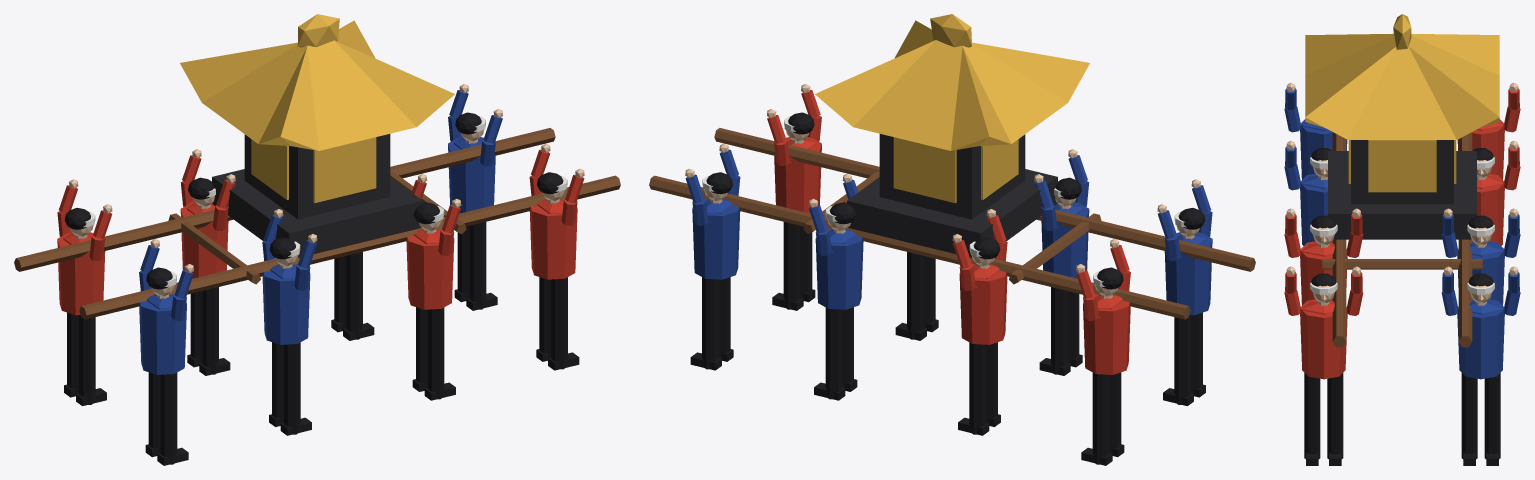
Rendered from mikoshi.glb.
3 views of the same model, side by side, from view 1: azimuth 30°, elevation 25°; view 2: azimuth 150°, elevation 25°; view 3: azimuth 270°, elevation 25° (orthographic). The views are drawn at different scales.
Visible parts, largest first — view 1: mikoshi; view 2: mikoshi; view 3: mikoshi.
Part boxes in pixels (x1,y1,x2,y2): mikoshi: (14, 14, 620, 465); mikoshi: (649, 14, 1255, 465); mikoshi: (1284, 14, 1520, 465).
Bounding box in the file's own units: 5.2 × 3.4 × 2.07.
